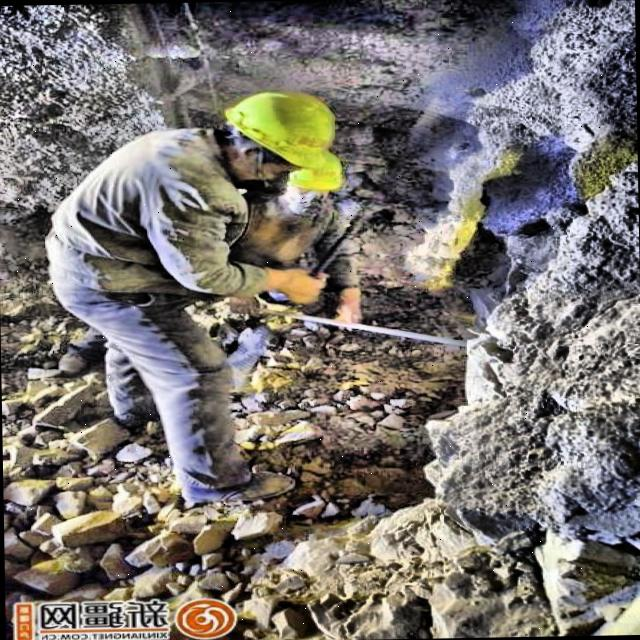helmet: (209, 82, 340, 194), (276, 152, 350, 214)
